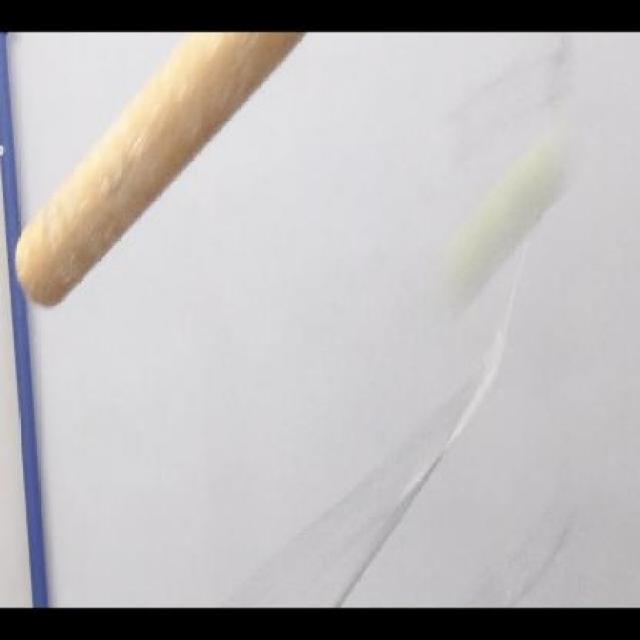baseball: (435, 127, 576, 301)
